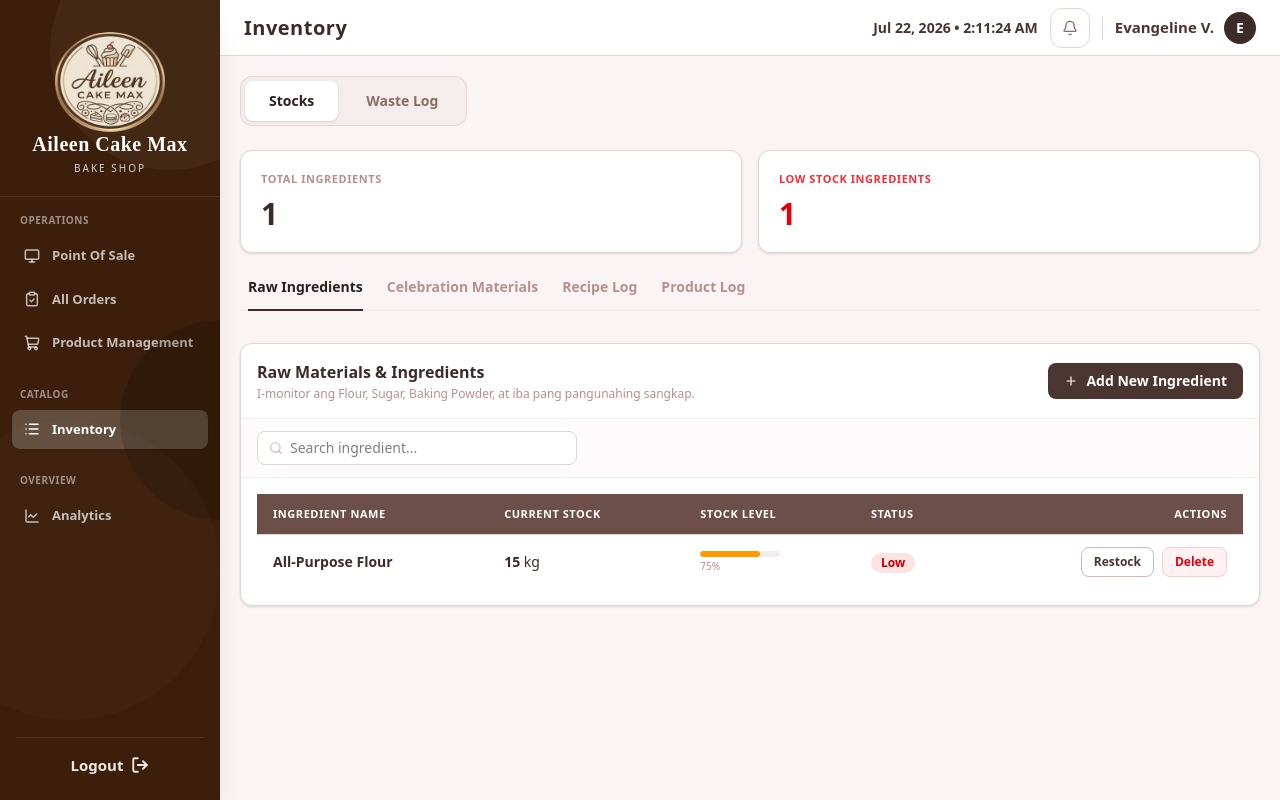
it: Auth & Analytics Routing › should navigate from the Sidebar to the Analytics page
Click the link "Analytics" at (68,515), box [24, 506, 112, 524]
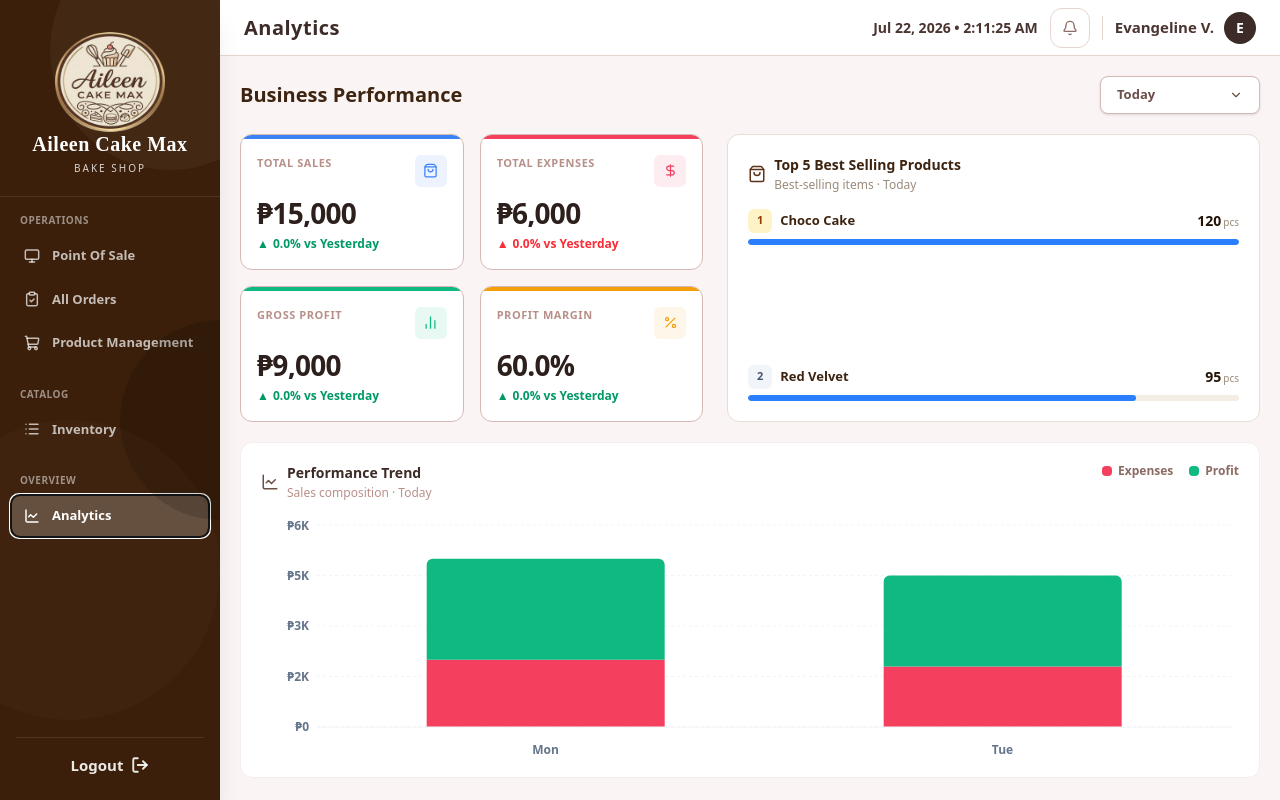
Now the heading "Business Performance" is shown, box [240, 81, 462, 109]
